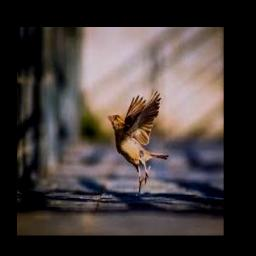Sparrow: (107, 88, 168, 196)
